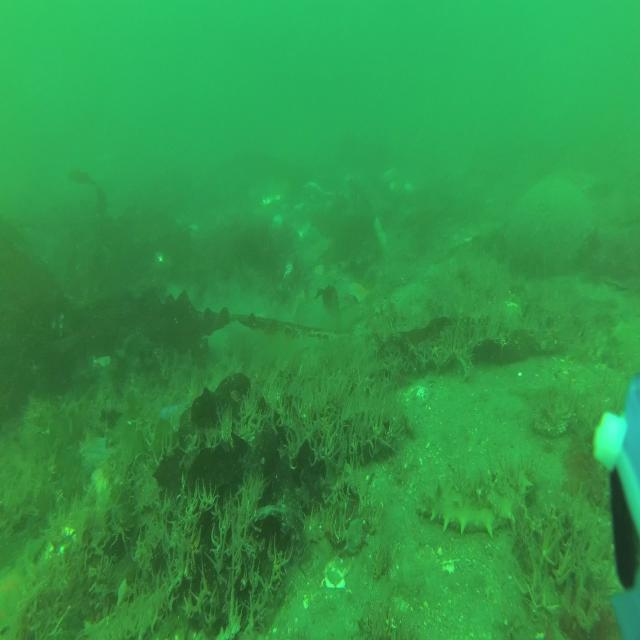holothurian: (414, 473, 534, 538)
scallop: (533, 396, 572, 436), (323, 554, 354, 590)
starfish: (0, 567, 31, 633), (346, 281, 367, 306)
